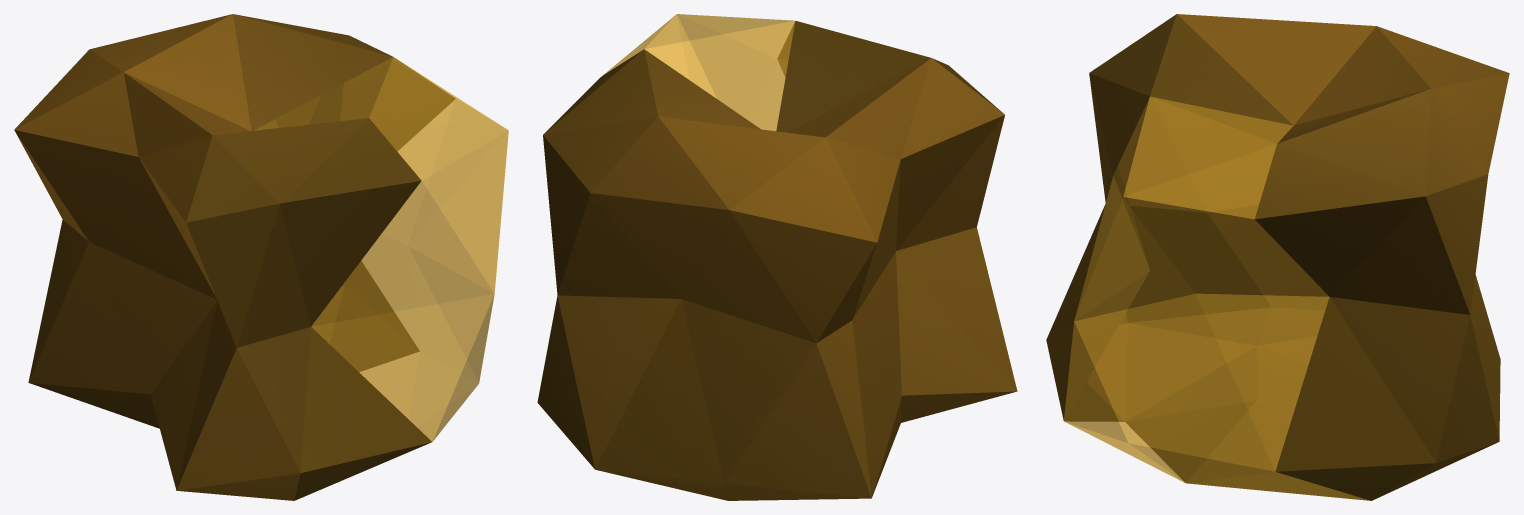
File: Wood2.glb
3 renders of one model, left to right at view 1: azimuth 30°, elevation 25°; view 2: azimuth 150°, elevation 25°; view 3: azimuth 270°, elevation 25°, orthographic. The views are drawn at different scales.
Visible parts, largest first — view 1: Wood2; view 2: Wood2; view 3: Wood2.
Part boxes in pixels (box(x1,y1,x2,y2)): Wood2: box(14, 14, 508, 500); Wood2: box(537, 14, 1017, 500); Wood2: box(1046, 14, 1509, 500).
Size of the model in its own units: 1.39 by 1.38 by 1.51.
Materials: 2 (1 with a texture image).
